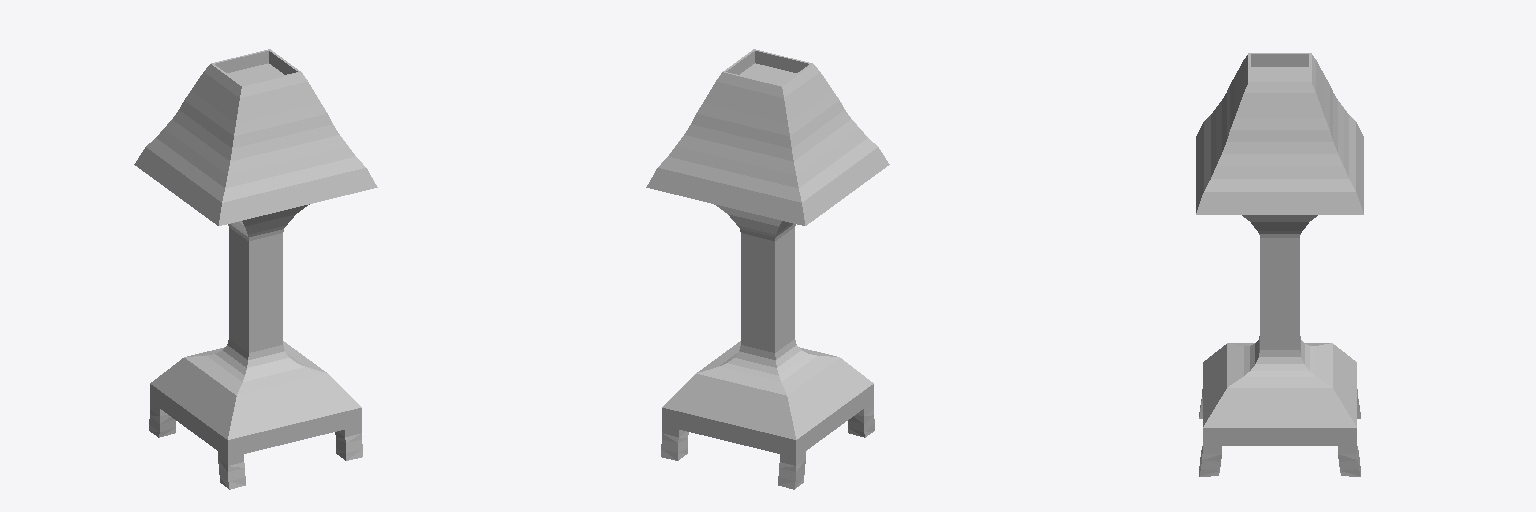
File: Lamp.obj
3 renders of one model, left to right at view 1: azimuth 30°, elevation 25°; view 2: azimuth 150°, elevation 25°; view 3: azimuth 270°, elevation 25°, orthographic.
Parts seen in each view (by area): view 1: Lamp; view 2: Lamp; view 3: Lamp.
Boxes of the visible parts, x1=… form: Lamp: x1=134, y1=49, x2=377, y2=489; Lamp: x1=646, y1=49, x2=889, y2=489; Lamp: x1=1196, y1=53, x2=1363, y2=476.
Bounding box in the file's own units: 0.2258 × 0.5096 × 0.2071.